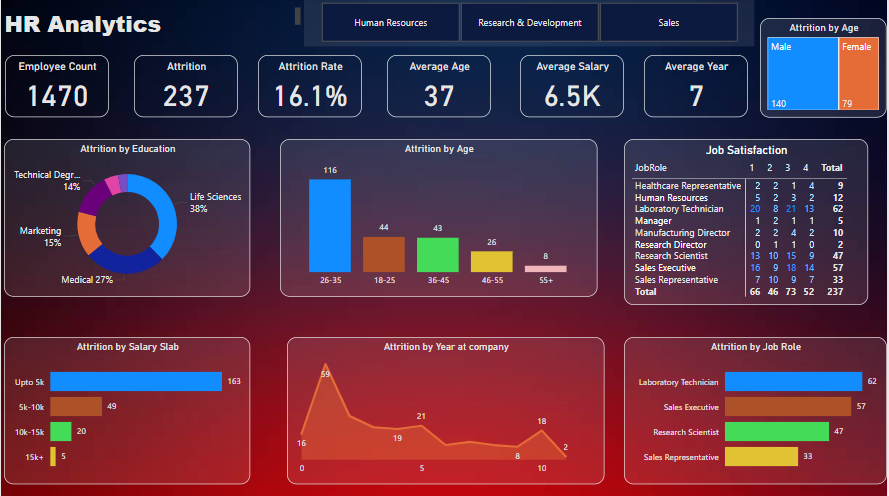

What the dashboard file says about the page in this screenshot:
{"tool":"powerbi","page":{"name":"Page 1","canvas":[1280,720],"ordinal":0},"visuals":[{"type":"card","title":"Employee Count","fields":{"Values":["Count(HR_Analytics.EmpID)"]},"box":[5.8,82.1,150,90],"z":0},{"type":"card","title":"Attrition","fields":{"Values":["Sum(HR_Analytics.AttritionCount)"]},"box":[192.3,82.1,150.4,89.6],"z":1000},{"type":"card","title":"Attrition Rate","fields":{"Values":["HR_Analytics.Attrition Rate"]},"box":[371.6,82.1,150.4,89.6],"z":2000},{"type":"card","title":"Average Age","fields":{"Values":["Avg(HR_Analytics.Age)"]},"box":[558.1,82.1,150.4,89.6],"z":3000},{"type":"card","title":"Average Salary","fields":{"Values":["Avg(HR_Analytics.MonthlyIncome)"]},"box":[750.4,82.1,150.4,89.6],"z":4000},{"type":"card","title":"Average Year","fields":{"Values":["Avg(HR_Analytics.YearsAtCompany)"]},"box":[929.6,82.1,150.4,89.6],"z":5000},{"type":"donutChart","title":"Attrition by Education","fields":{"Category":["HR_Analytics.EducationField"],"Y":["Sum(HR_Analytics.AttritionCount)"]},"box":[5,203.3,356.1,228.5],"z":6000},{"type":"columnChart","title":"Attrition by Age","fields":{"Y":["Sum(HR_Analytics.AttritionCount)"],"Category":["HR_Analytics.AgeGroup"]},"box":[403.1,203.3,458.6,228.5],"z":7000},{"type":"pivotTable","title":"Job Satisfaction","fields":{"Rows":["HR_Analytics.JobRole"],"Columns":["HR_Analytics.JobSatisfaction"],"Values":["Sum(HR_Analytics.AttritionCount)"]},"box":[900.4,203.3,352.8,240.2],"z":8000},{"type":"clusteredBarChart","title":"Attrition by Salary Slab","fields":{"Category":["HR_Analytics.SalarySlab"],"Y":["Sum(HR_Analytics.AttritionCount)"]},"box":[5,490.5,356.1,213.3],"z":9000},{"type":"clusteredBarChart","title":"Attrition by Job Role","fields":{"Y":["Sum(HR_Analytics.AttritionCount)"],"Category":["HR_Analytics.JobRole"]},"box":[900.4,490.5,379.6,213.3],"z":10000},{"type":"areaChart","title":"Attrition by Year at company","fields":{"Category":["HR_Analytics.YearsAtCompany"],"Y":["Sum(HR_Analytics.AttritionCount)"]},"box":[413.2,490.5,458.6,213.3],"z":11000},{"type":"treemap","title":"Attrition by Age","fields":{"Group":["HR_Analytics.Gender"],"Values":["Sum(HR_Analytics.AttritionCount)"]},"box":[1096.9,28.6,183.1,144.5],"z":12000},{"type":"slicer","fields":{"Values":["HR_Analytics.Department"]},"box":[438.6,0,651,70],"z":13000},{"type":"textbox","box":[0,8.4,438.4,57.1],"z":14000}]}

Visuals, with their boxes in screenshot pixels (x1, y1, x2, y2), scaled from the page's 1280x720 canvas onto the 889x496 screenshot:
"Employee Count" card: region(4, 57, 108, 119)
"Attrition" card: region(134, 57, 238, 118)
"Attrition Rate" card: region(258, 57, 363, 118)
"Average Age" card: region(388, 57, 492, 118)
"Average Salary" card: region(521, 57, 626, 118)
"Average Year" card: region(646, 57, 750, 118)
"Attrition by Education" donutChart: region(3, 140, 251, 297)
"Attrition by Age" columnChart: region(280, 140, 598, 297)
"Job Satisfaction" pivotTable: region(625, 140, 870, 306)
"Attrition by Salary Slab" clusteredBarChart: region(3, 338, 251, 485)
"Attrition by Job Role" clusteredBarChart: region(625, 338, 888, 485)
"Attrition by Year at company" areaChart: region(287, 338, 605, 485)
"Attrition by Age" treemap: region(762, 20, 888, 119)
slicer - HR_Analytics.Department: region(305, 0, 757, 48)
textbox: region(0, 6, 304, 45)
